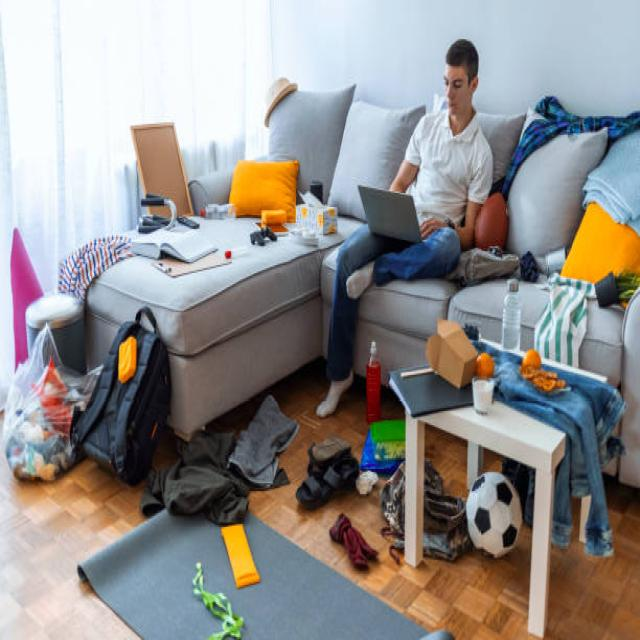trash: (1, 324, 93, 484)
